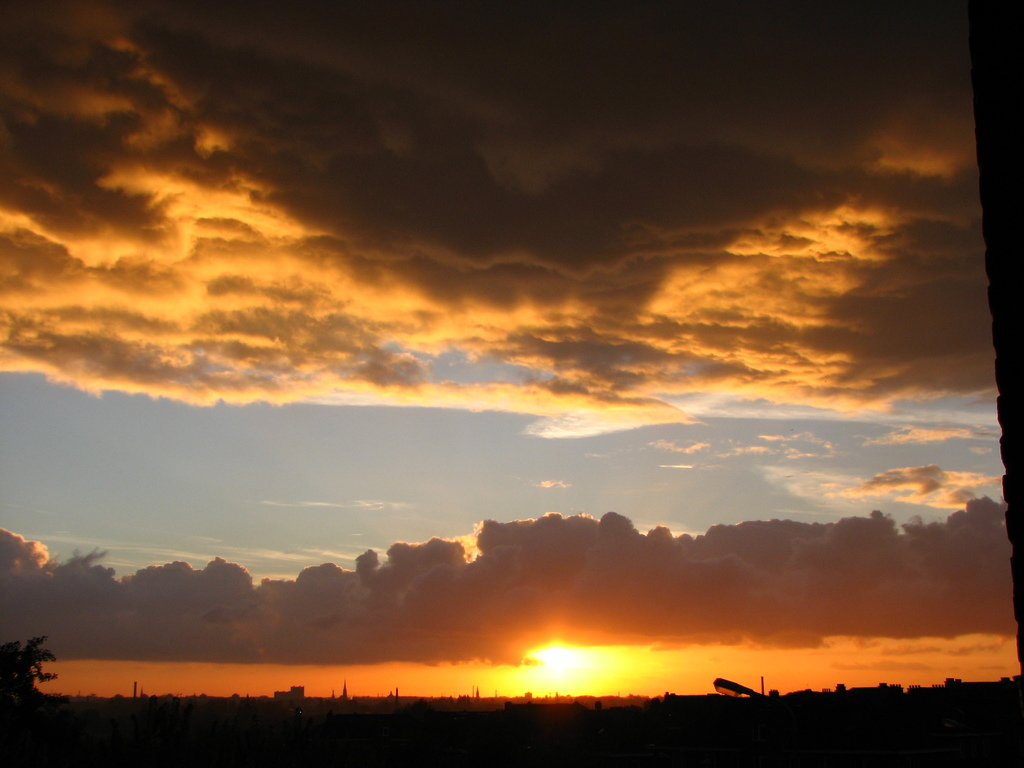Tree: (8, 633, 58, 692)
